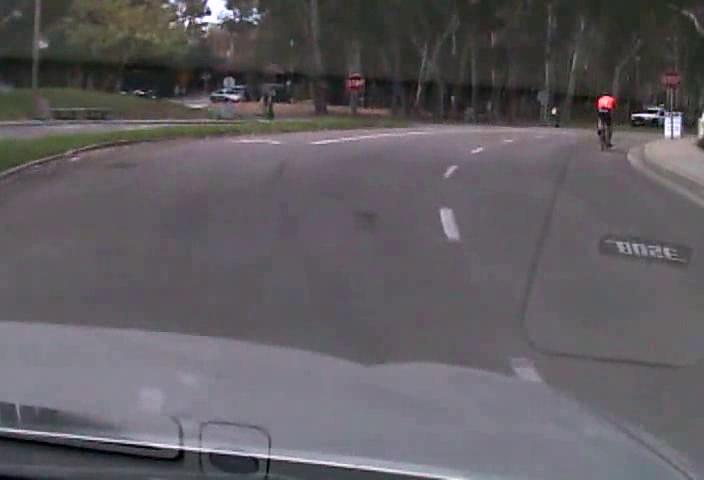stop: (345, 72, 366, 92)
